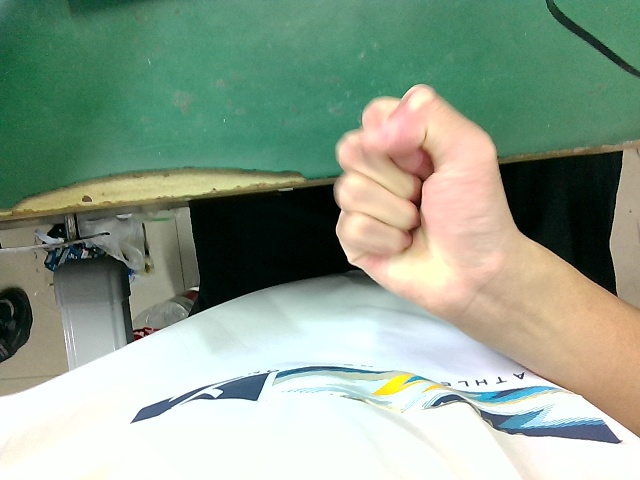stone: (320, 79, 525, 319)
